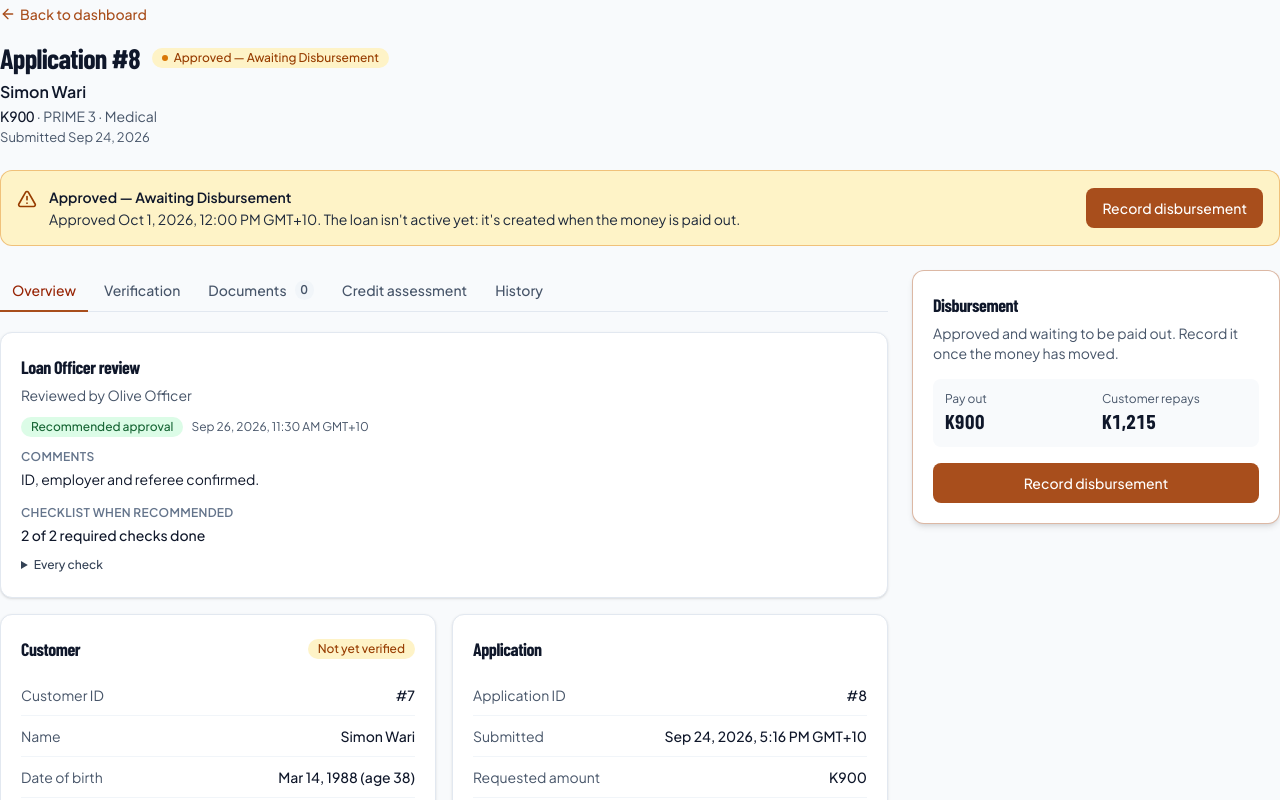
Test: The review workspace › offers Record disbursement from the status once approved, opening the dialog
Check: the button "Record disbursement" below "Pay out" is shown, box [933,463,1259,503]
Click the 1st button "Record disbursement" at (1175, 208), box [1086,188,1263,228]
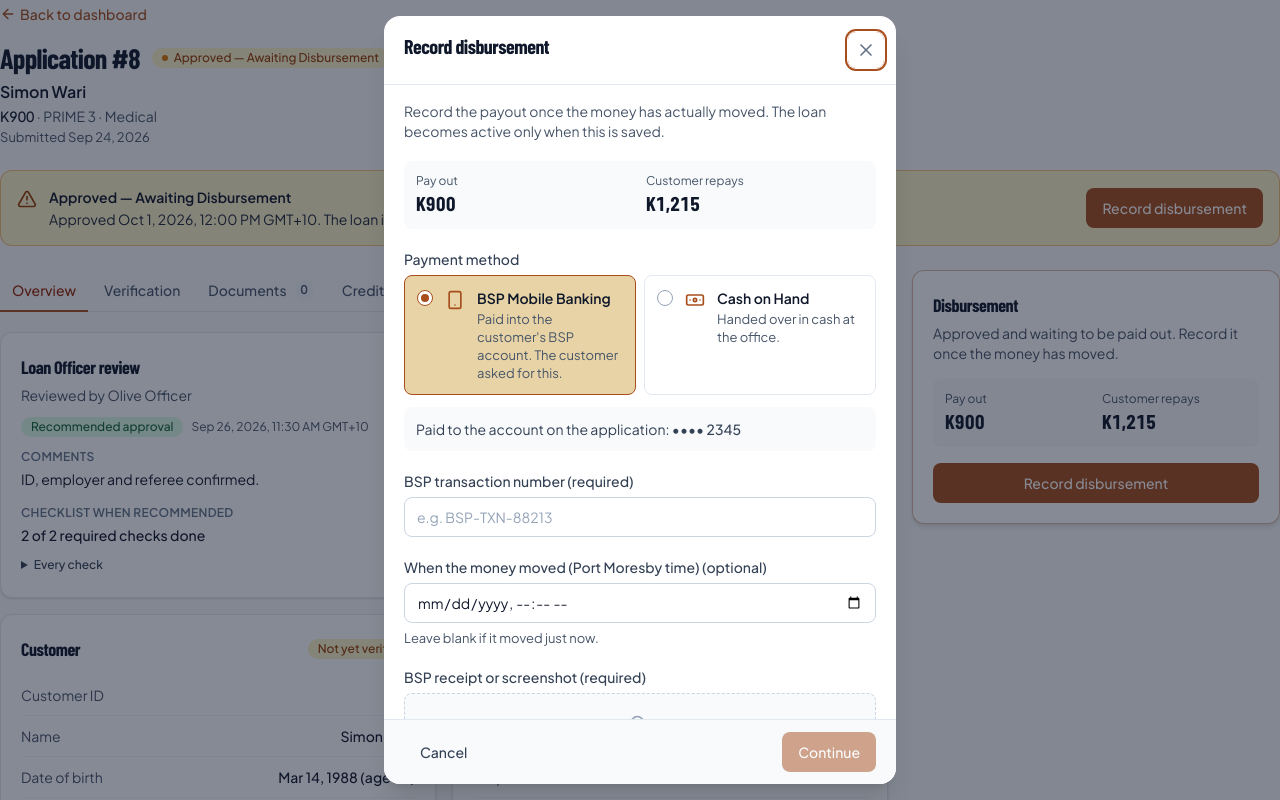
Check: the dialog "Record disbursement" is shown, box [384,16,896,784]
